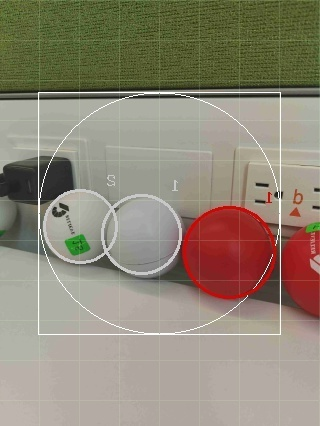Pelota blanca: (103, 193, 185, 280), (45, 188, 113, 264), (0, 196, 20, 238)
Pelota roja: (181, 204, 278, 299), (282, 220, 320, 318)
